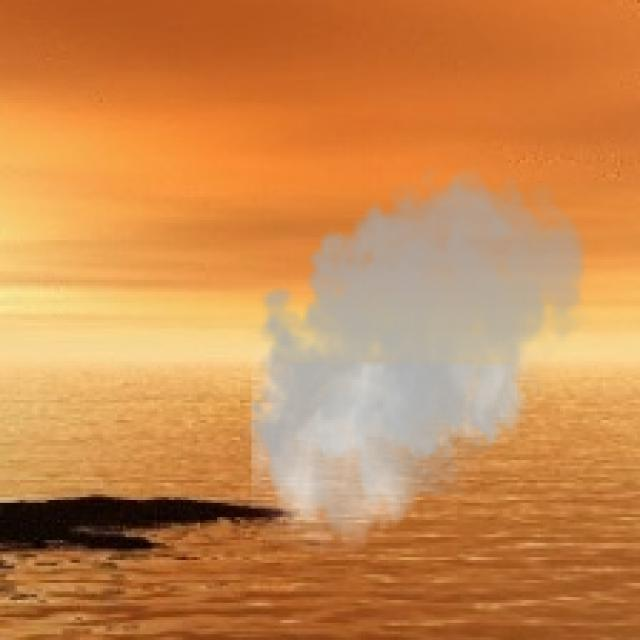smoke: (237, 154, 594, 552)
